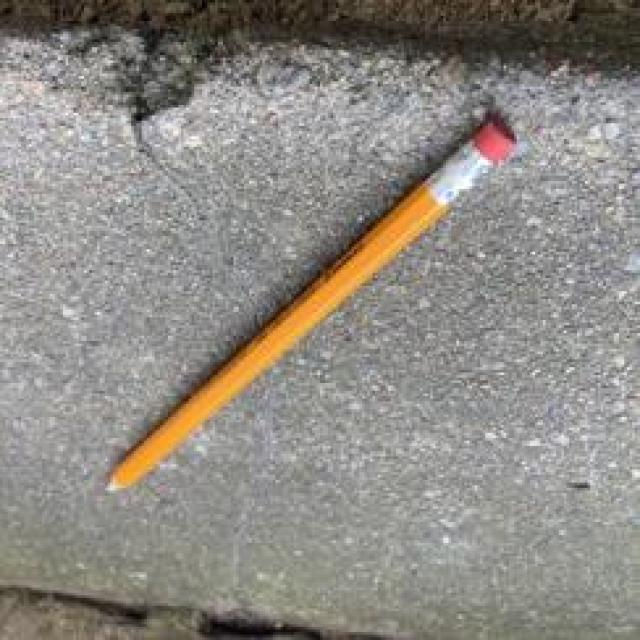pencil: (66, 73, 562, 556)
